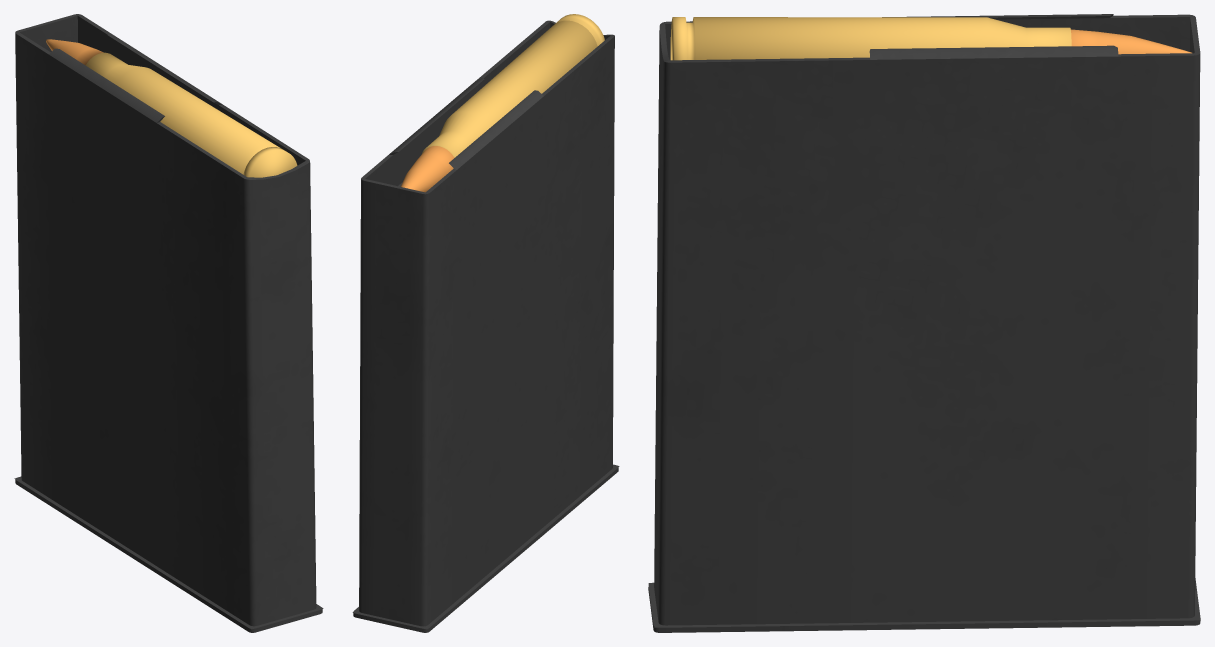
The model's file is sniper_mag.glb.
3 renders of one model, left to right at view 1: azimuth 30°, elevation 25°; view 2: azimuth 150°, elevation 25°; view 3: azimuth 270°, elevation 25°, orthographic. The views are drawn at different scales.
Parts seen in each view (by area): view 1: Magazine, Cylinder; view 2: Magazine, Cylinder; view 3: Magazine, Cylinder.
Boxes of the visible parts, box(x1,y1,x2,y2) form: Magazine: box(14, 14, 323, 632); Cylinder: box(46, 39, 297, 177); Magazine: box(352, 20, 619, 632); Cylinder: box(401, 14, 604, 192); Magazine: box(648, 14, 1200, 632); Cylinder: box(670, 17, 1191, 60).
Bounding box in the file's own units: 0.0184 × 0.087 × 0.0737.
Materials: 3 (1 with a texture image).
